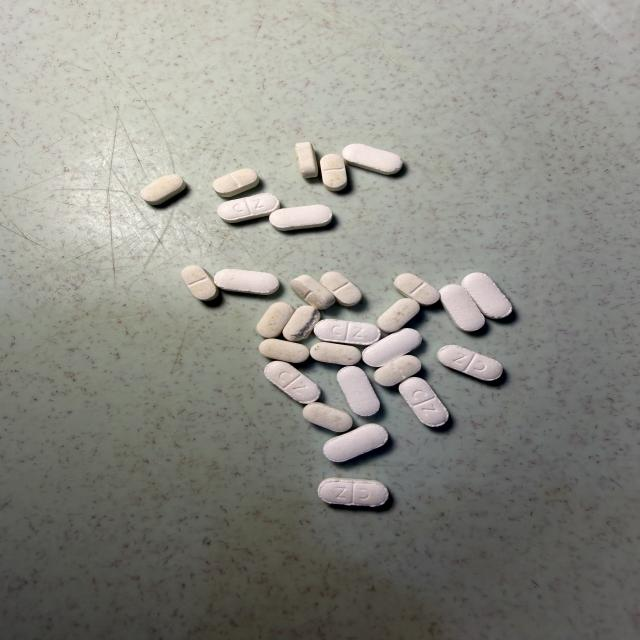pill: (324, 424, 388, 462), (264, 361, 320, 404), (399, 378, 448, 427), (437, 345, 502, 381), (363, 328, 422, 367), (462, 273, 512, 319), (337, 366, 379, 416), (440, 285, 484, 331), (318, 478, 388, 506), (343, 144, 402, 174), (314, 319, 380, 345), (218, 194, 279, 222), (214, 269, 279, 294), (270, 205, 332, 230), (290, 275, 335, 309), (377, 298, 419, 333), (374, 355, 421, 386), (303, 403, 352, 432), (394, 274, 439, 305), (320, 272, 361, 306), (181, 265, 219, 301), (141, 175, 186, 205), (257, 302, 294, 338), (283, 306, 320, 341), (213, 169, 259, 197), (259, 339, 309, 363), (310, 342, 361, 365), (320, 154, 347, 191), (295, 142, 317, 178)
